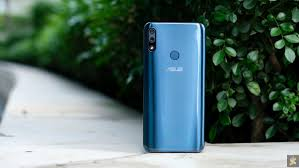asus: (142, 19, 206, 156)
